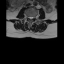CCS_normal: (30, 14, 31, 22)
LFS_normal: (33, 14, 34, 20)
LLS_normal: (31, 15, 33, 20)
RFS_normal: (27, 14, 28, 20)
RLS_normal: (28, 14, 30, 20)
